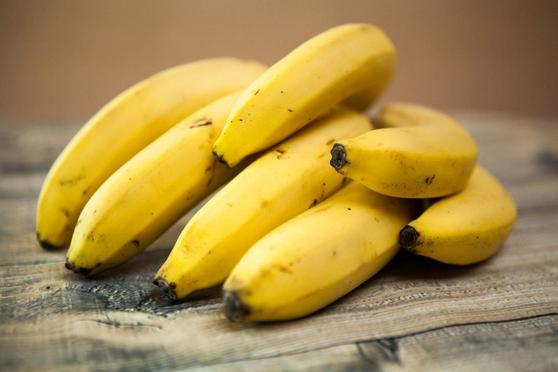banana: (203, 23, 397, 169), (221, 190, 417, 331), (329, 93, 484, 209), (405, 164, 524, 284)
